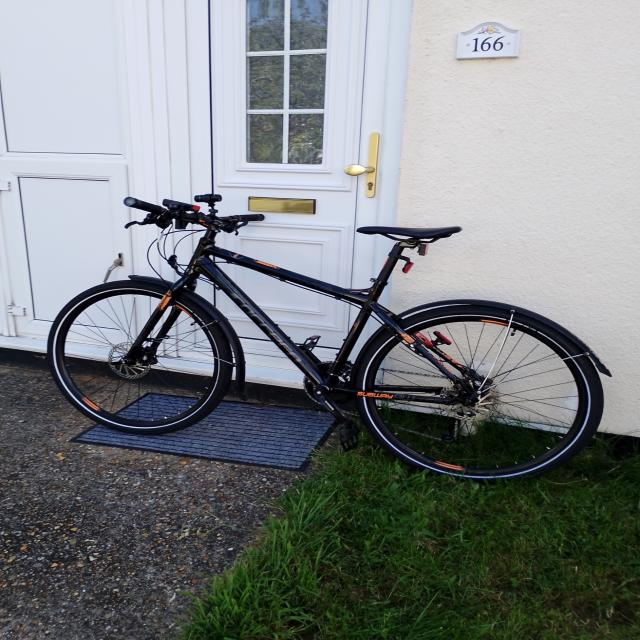bicycle: (46, 193, 612, 480)
